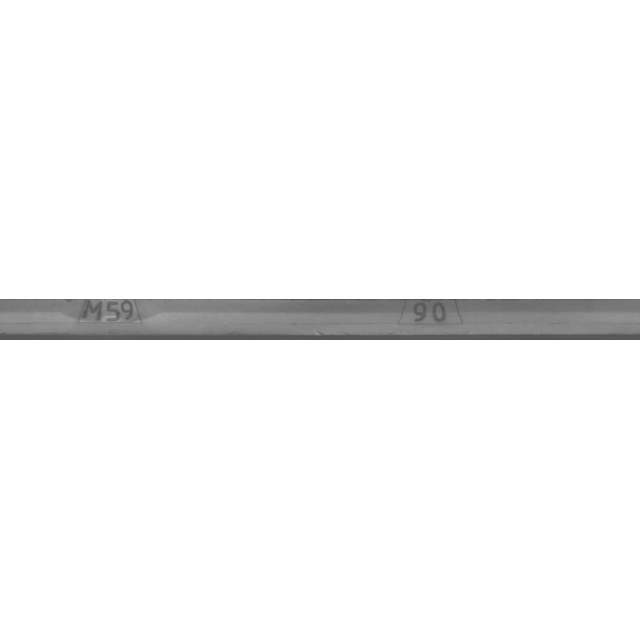mohao: (15, 270, 215, 370)
xuehao: (332, 270, 532, 370)
